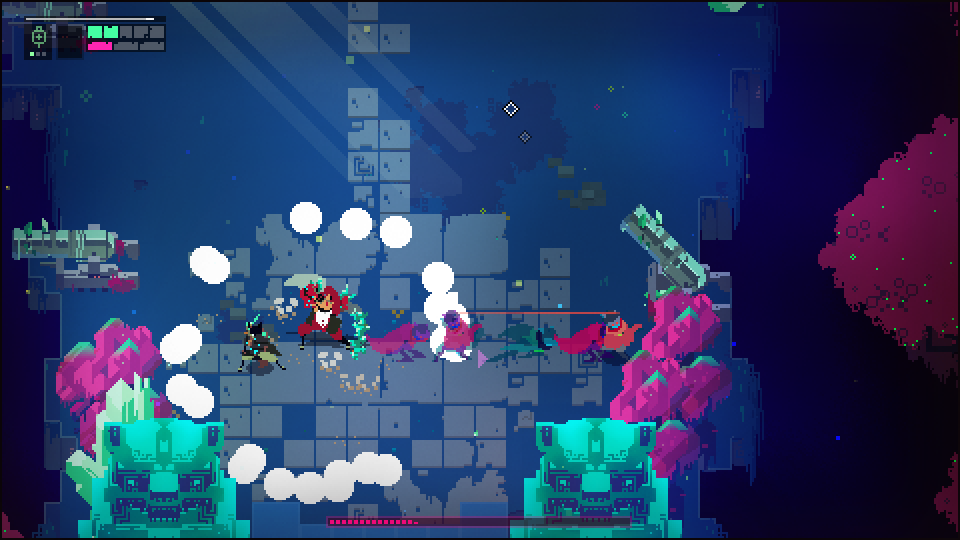hanged_man: (295, 281, 371, 359)
player: (591, 308, 642, 366)
